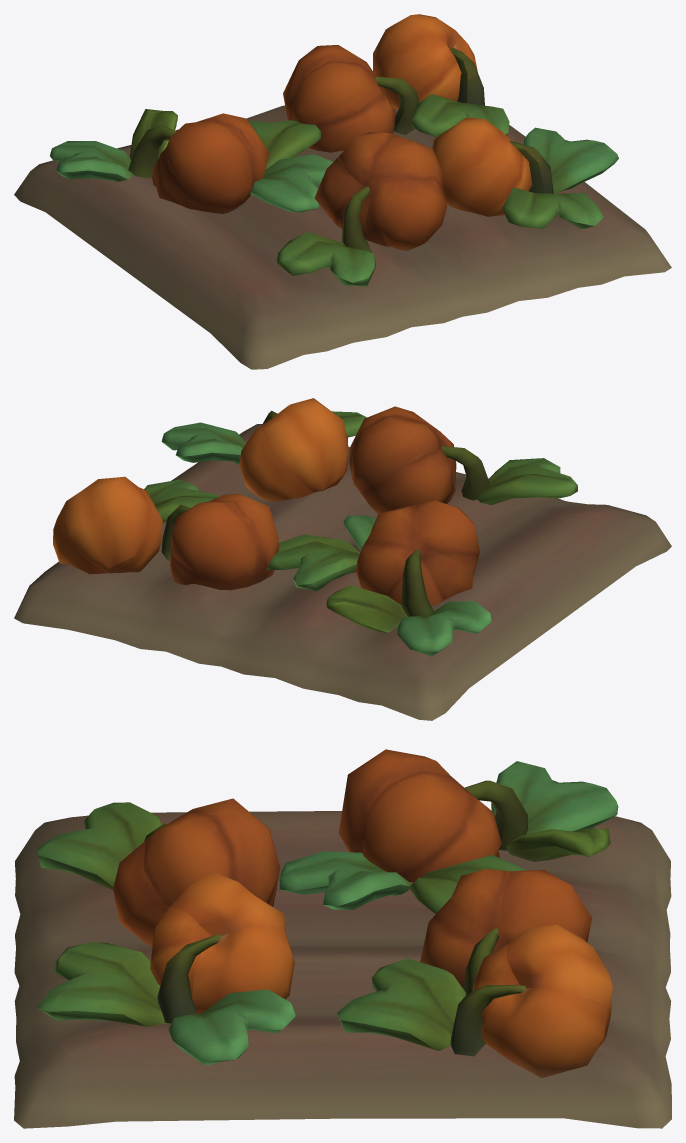
Rendered from SM_Crop_Pumpkin_02.glb.
The picture shows the model from 3 angles, top to bottom: view 1: azimuth 30°, elevation 25°; view 2: azimuth 150°, elevation 25°; view 3: azimuth 270°, elevation 25°; orthographic projection. The views are drawn at different scales.
Visible parts, largest first — view 1: SM_Crop_Pumpkin_02; view 2: SM_Crop_Pumpkin_02; view 3: SM_Crop_Pumpkin_02.
Boxes of the visible parts, bbox=[...] form: SM_Crop_Pumpkin_02: bbox=[14, 14, 671, 369]; SM_Crop_Pumpkin_02: bbox=[14, 398, 671, 720]; SM_Crop_Pumpkin_02: bbox=[14, 749, 671, 1128].
Bounding box in the file's own units: 4.06 × 1.17 × 3.94.
Materials: 1 (1 with a texture image).
